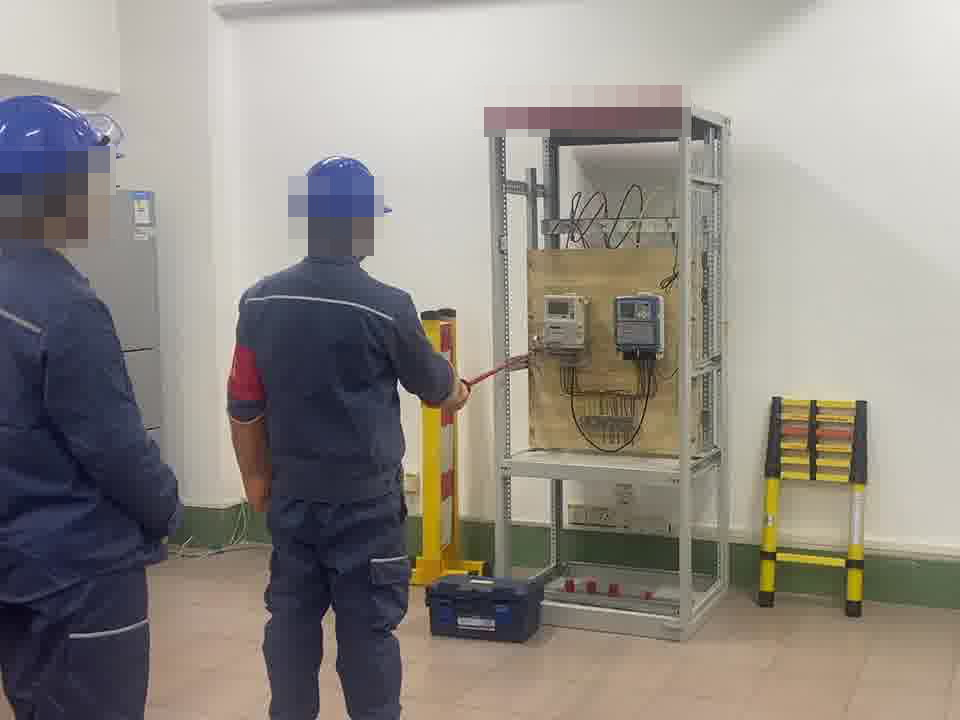badge: (225, 341, 268, 406)
downsuit: (253, 503, 415, 720), (1, 575, 156, 720)
halt: (1, 93, 119, 246), (292, 155, 390, 256)
inear: (43, 168, 95, 226), (348, 212, 376, 259)
longglove: (227, 404, 276, 512)
person: (222, 151, 467, 720), (1, 87, 196, 720)
testrod: (460, 346, 534, 393)
upsuit: (1, 231, 192, 563), (222, 252, 454, 493)
